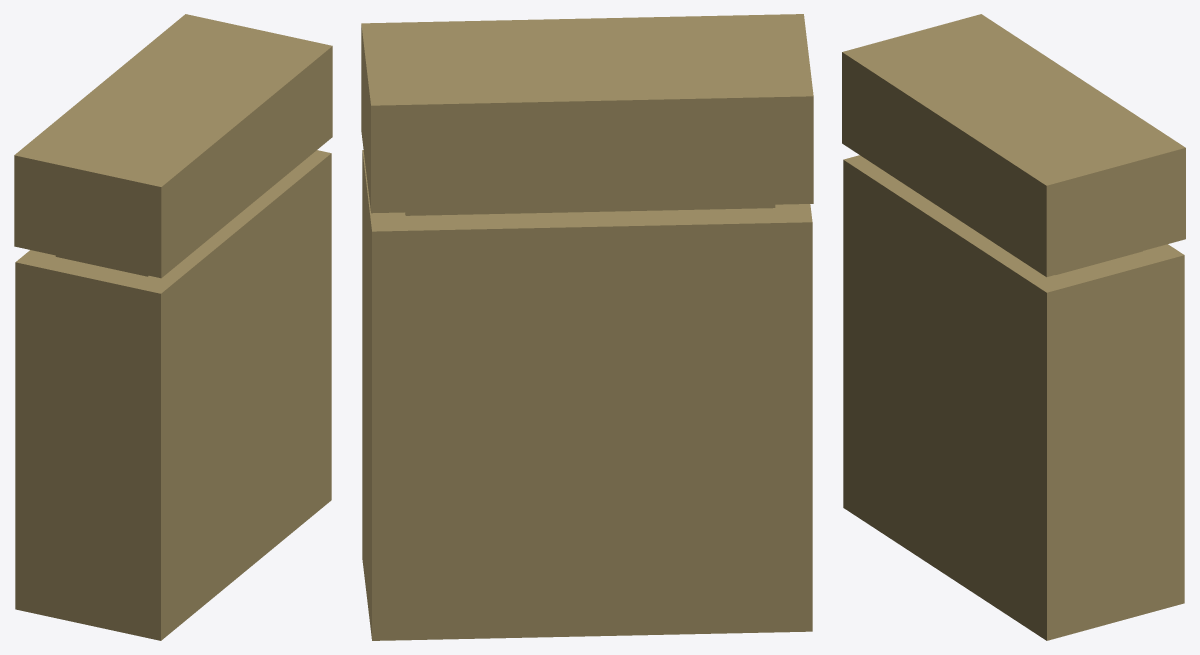
Rendered from Lighter.glb.
3 views of the same model, side by side, from view 1: azimuth 30°, elevation 25°; view 2: azimuth 150°, elevation 25°; view 3: azimuth 270°, elevation 25° (orthographic). The views are drawn at different scales.
Visible parts, largest first — view 1: Lighter; view 2: Lighter; view 3: Lighter.
Part boxes in pixels (bbox=[...]): Lighter: bbox=[14, 14, 332, 640]; Lighter: bbox=[361, 14, 813, 640]; Lighter: bbox=[842, 14, 1185, 640].
Size of the model in its own units: 0.0374 by 0.0462 by 0.0316.
Materials: 1 (1 with a texture image).
